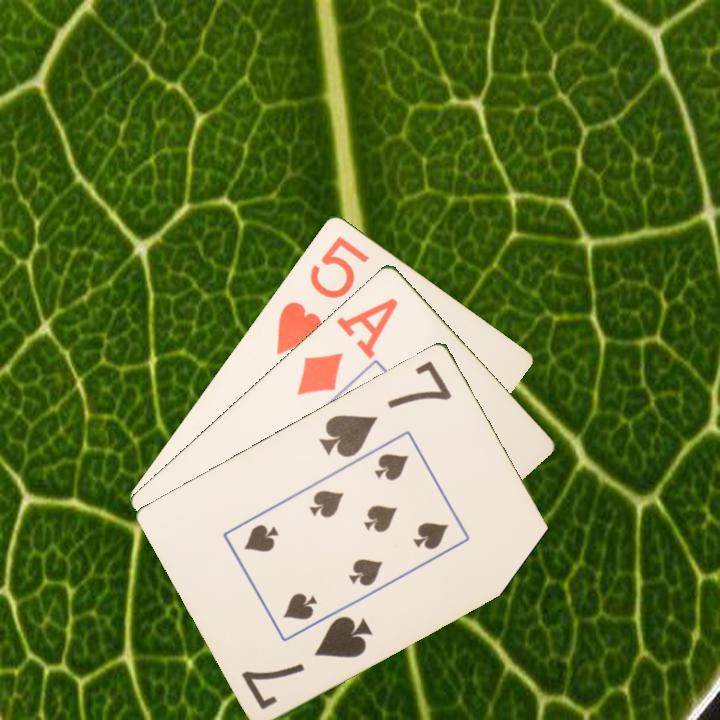5h: (272, 231, 373, 357)
7s: (315, 356, 455, 460), (238, 611, 376, 712)
Ad: (293, 293, 401, 398)
